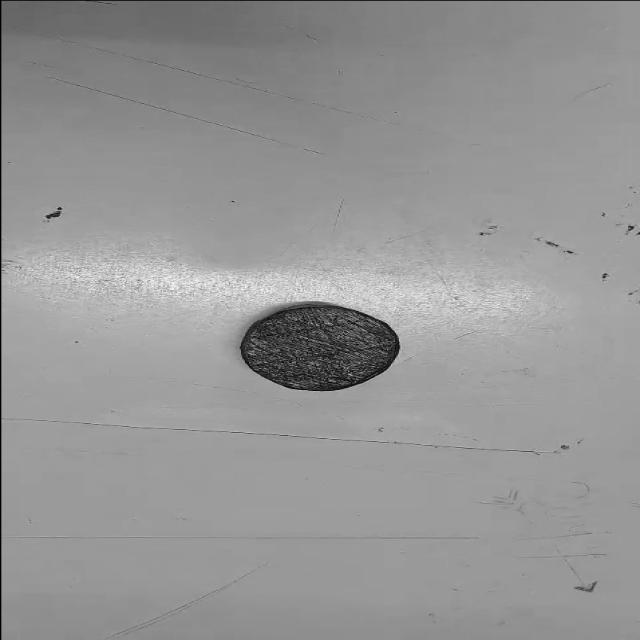bcircle: (240, 304, 406, 392)
